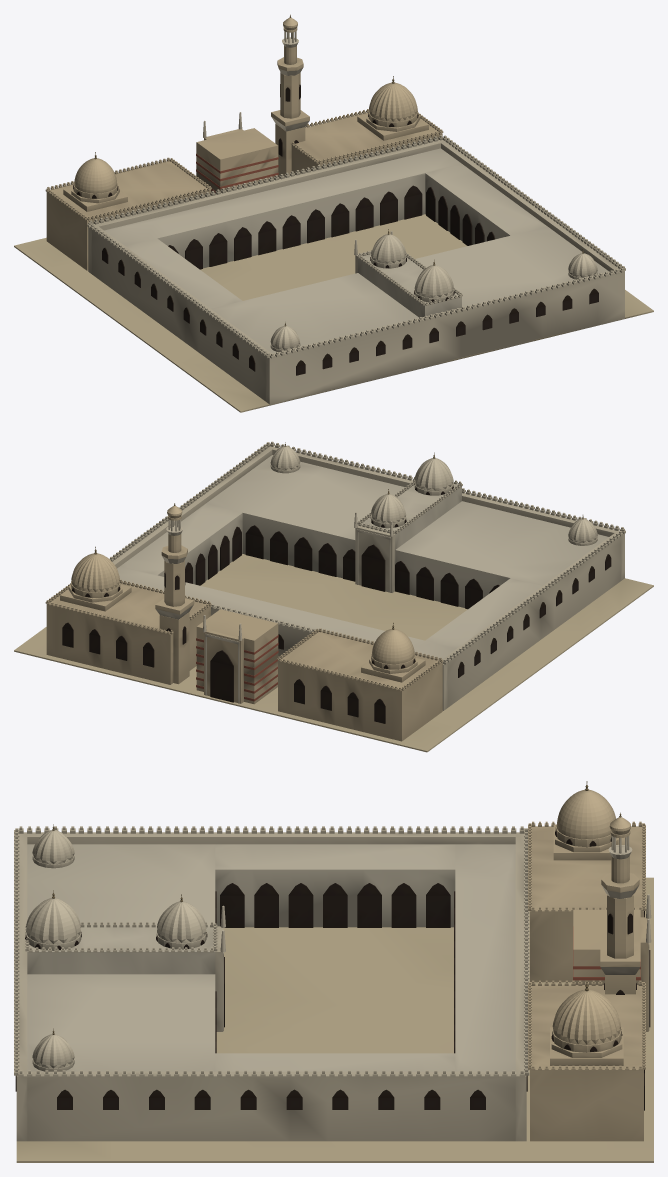
The model's file is al-azhar-1350.glb.
3 renders of one model, top to bottom at view 1: azimuth 30°, elevation 25°; view 2: azimuth 150°, elevation 25°; view 3: azimuth 270°, elevation 25°, orthographic. The views are drawn at different scales.
Parts seen in each view (by area): view 1: p0_walls, p1_arcades, p2_domes, p3_minarets; view 2: p2_domes, p1_arcades, p0_walls, p3_minarets; view 3: p0_walls, p1_arcades, p2_domes, p3_minarets.
Boxes of the visible parts, x1,y1,x2,y2 form: p0_walls: [14, 135, 653, 412]; p1_arcades: [104, 148, 608, 353]; p2_domes: [45, 76, 597, 352]; p3_minarets: [271, 14, 309, 178]; p2_domes: [45, 442, 597, 741]; p1_arcades: [117, 455, 608, 659]; p0_walls: [14, 441, 653, 752]; p3_minarets: [155, 503, 194, 684]; p0_walls: [14, 826, 653, 1162]; p1_arcades: [27, 844, 515, 1071]; p2_domes: [25, 781, 651, 1141]; p3_minarets: [600, 812, 640, 994].
Size of the model in its own units: 100 by 40.92 by 95.4.
